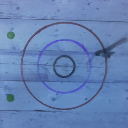Axe Tip: (102, 52, 110, 55)
